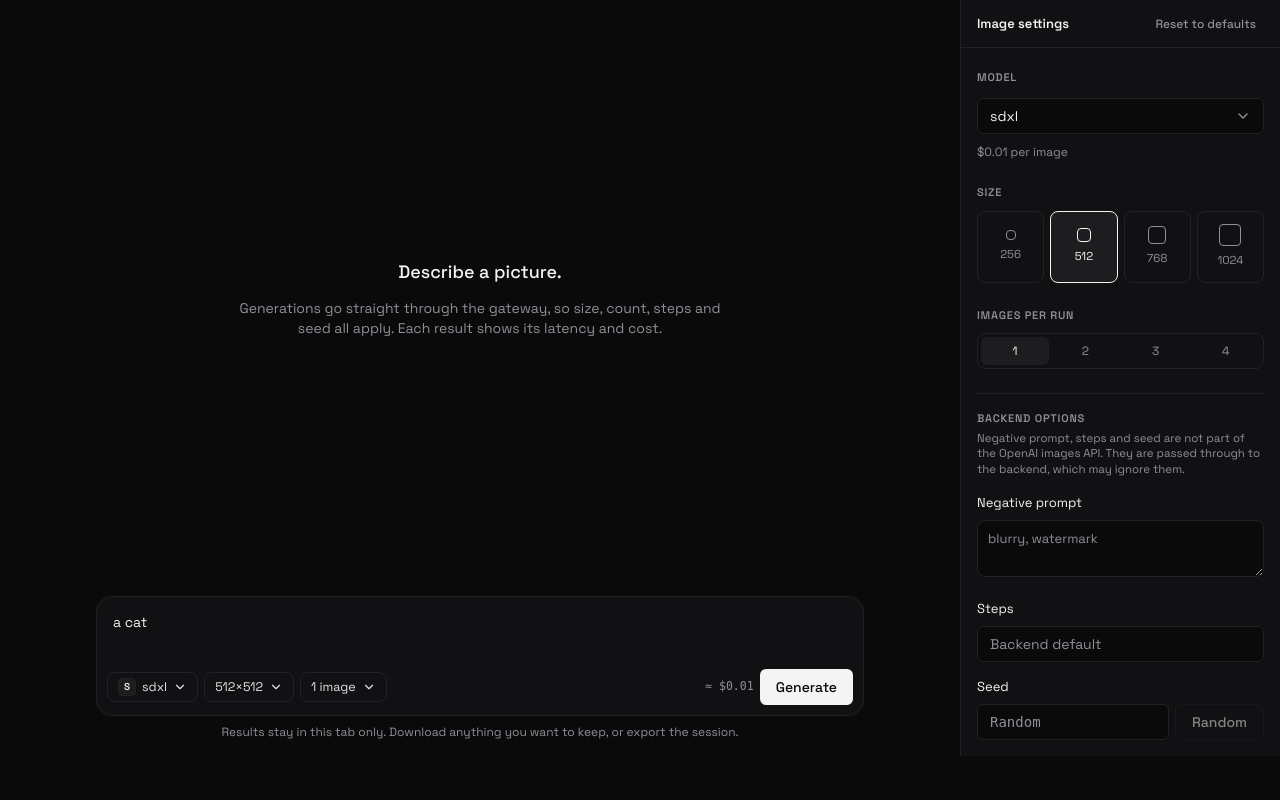
Test case: ImageWorkspace › surfaces an upstream failure without clearing the form
Click the button with id "image-generate". click: (806, 687)
box: x1=760 y1=669 x2=853 y2=705
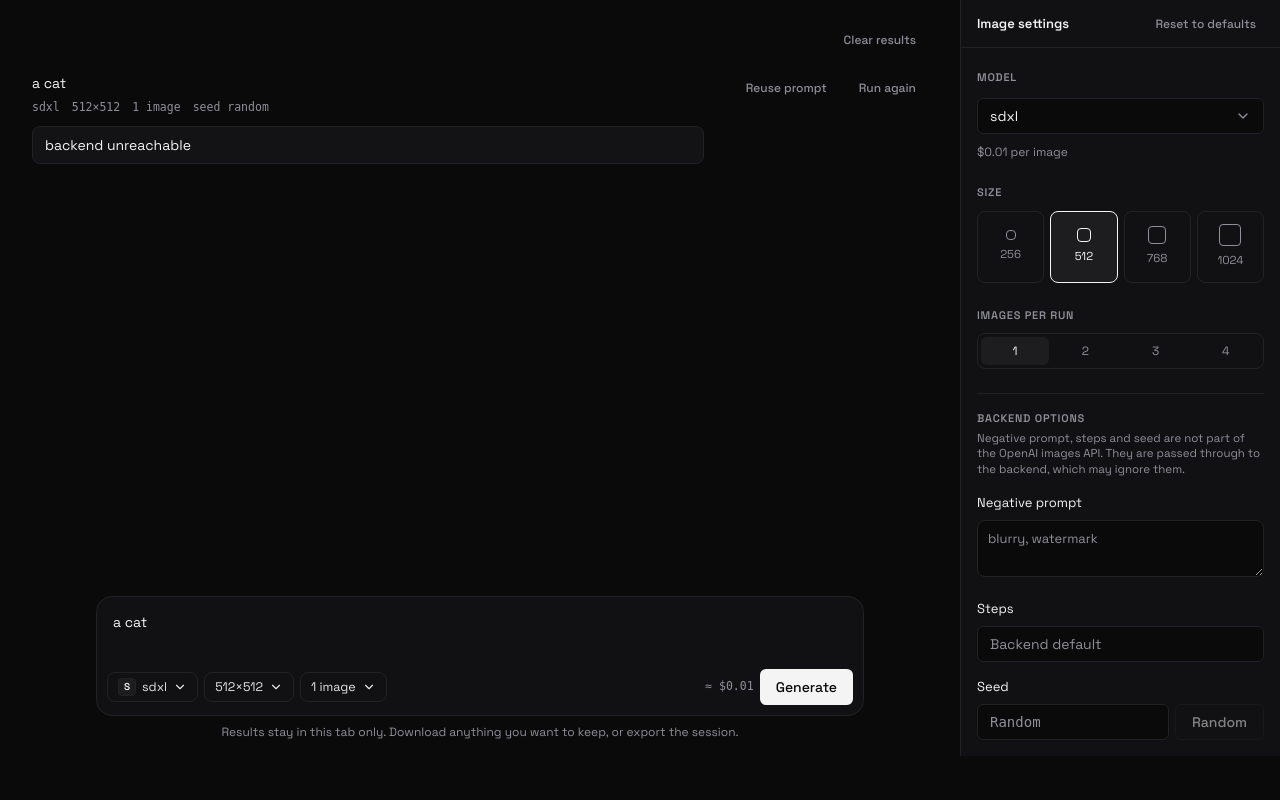
Expected: the text box with id "image-prompt" holds "a cat", x1=97 y1=597 x2=863 y2=661
Expected: the message "backend unreachable" is shown, x1=32 y1=126 x2=704 y2=164
